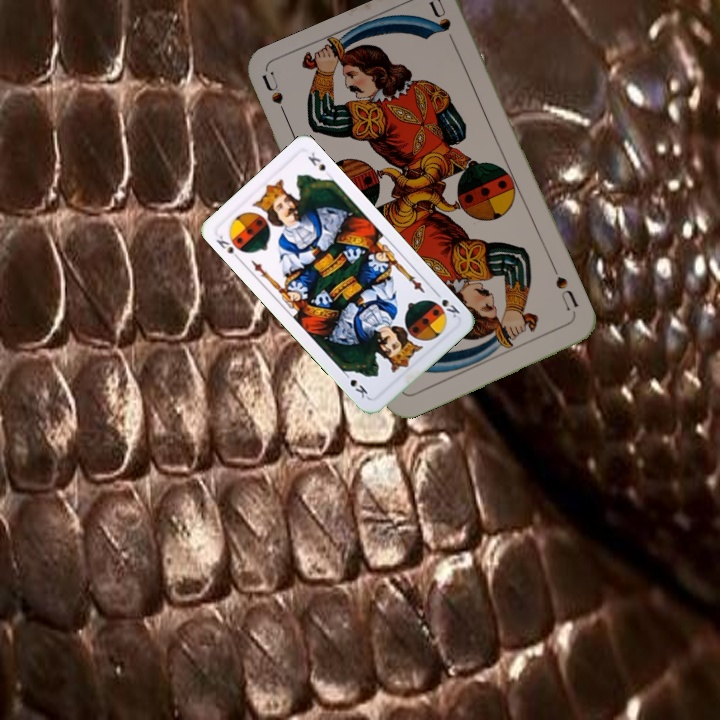SK: (430, 287, 462, 320), (212, 232, 244, 264)
SU: (259, 69, 293, 128), (549, 264, 581, 321)
